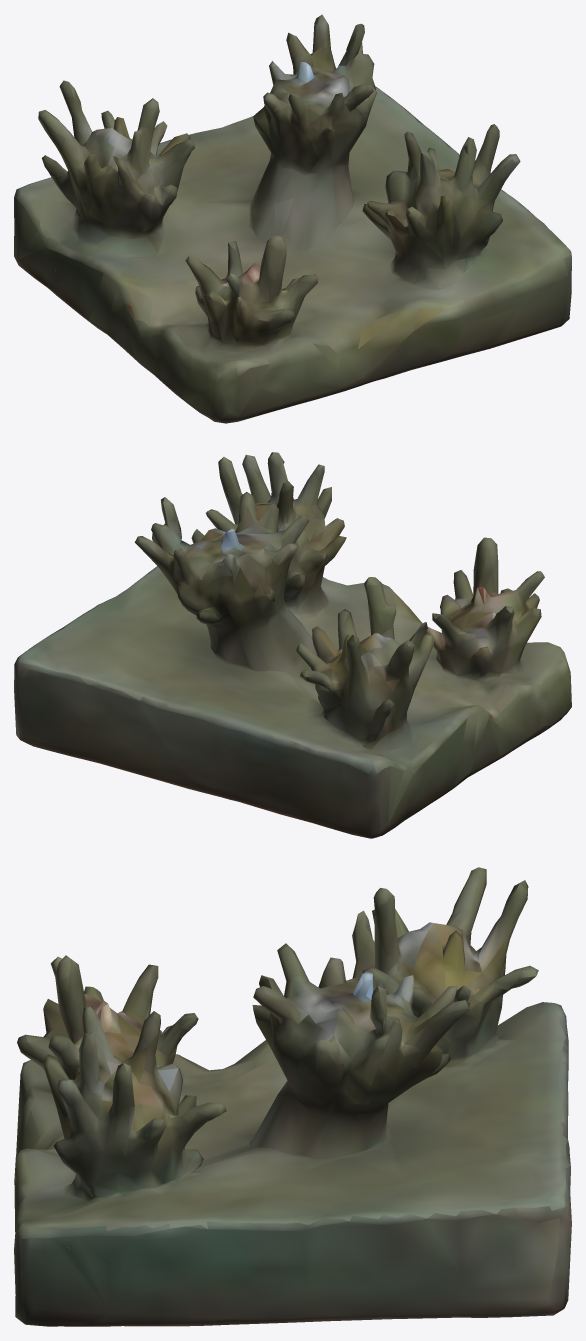
Rendered from m12_lodo_ouricos.glb.
The picture shows the model from 3 angles, top to bottom: view 1: azimuth 30°, elevation 25°; view 2: azimuth 150°, elevation 25°; view 3: azimuth 270°, elevation 25°; orthographic projection. The views are drawn at different scales.
Visible parts, largest first — view 1: m12_lodo_ouricos; view 2: m12_lodo_ouricos; view 3: m12_lodo_ouricos.
Part boxes in pixels (x1,y1,x2,y2): m12_lodo_ouricos: (14, 14, 571, 423); m12_lodo_ouricos: (14, 452, 571, 838); m12_lodo_ouricos: (14, 867, 571, 1326).
Bounding box in the file's own units: 0.9826 × 0.618 × 0.9741.
1 material, 1 textured.
